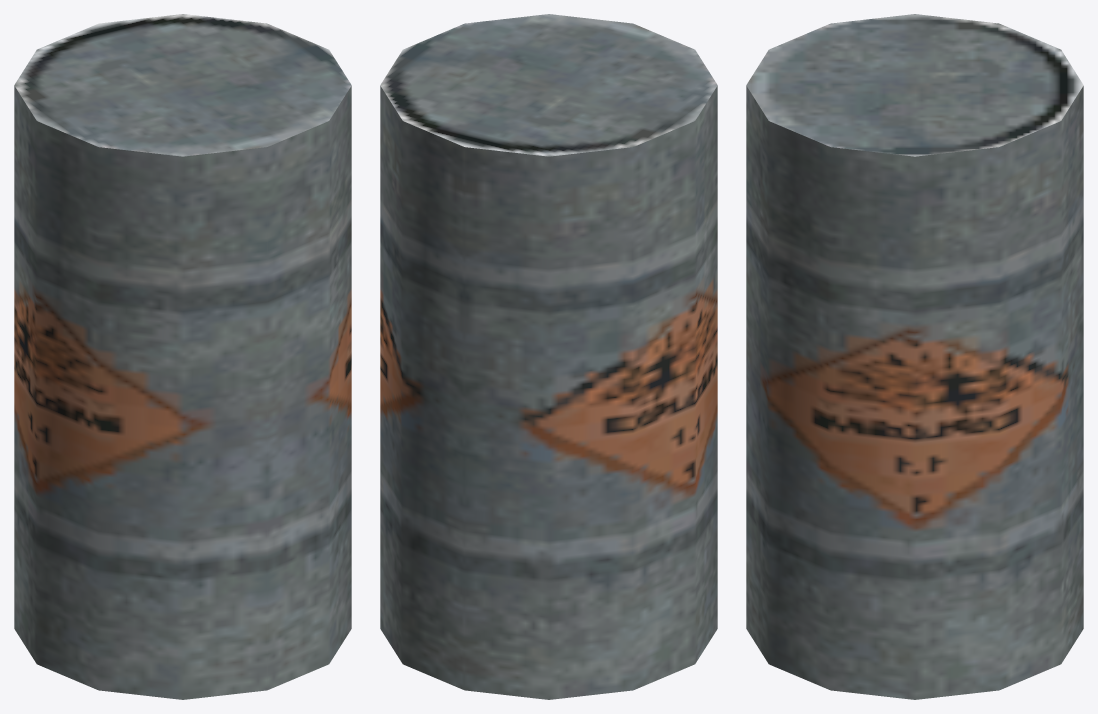
Rendered from DYN_BARREL1_DYNAMIC.glb.
3 views of the same model, side by side, from view 1: azimuth 30°, elevation 25°; view 2: azimuth 150°, elevation 25°; view 3: azimuth 270°, elevation 25° (orthographic).
Visible parts, largest first — view 1: DYN_BARREL1_DYNAMIC; view 2: DYN_BARREL1_DYNAMIC; view 3: DYN_BARREL1_DYNAMIC.
Boxes of the visible parts, x1,y1,x2,y2 form: DYN_BARREL1_DYNAMIC: (14,14,351,699); DYN_BARREL1_DYNAMIC: (380,14,717,699); DYN_BARREL1_DYNAMIC: (746,14,1083,699).
Bounding box in the file's own units: 0.688 × 1.22 × 0.688.
Materials: 1 (1 with a texture image).
